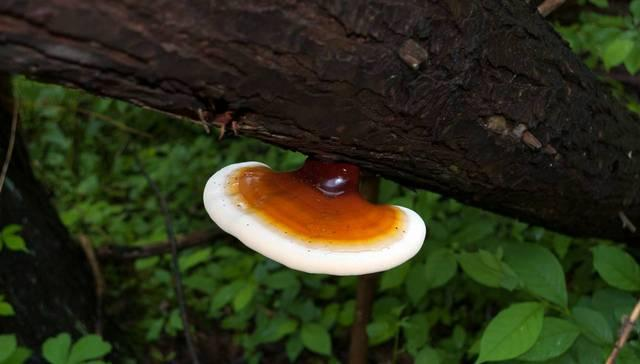Non-edible Mushroom: (201, 154, 427, 277)
